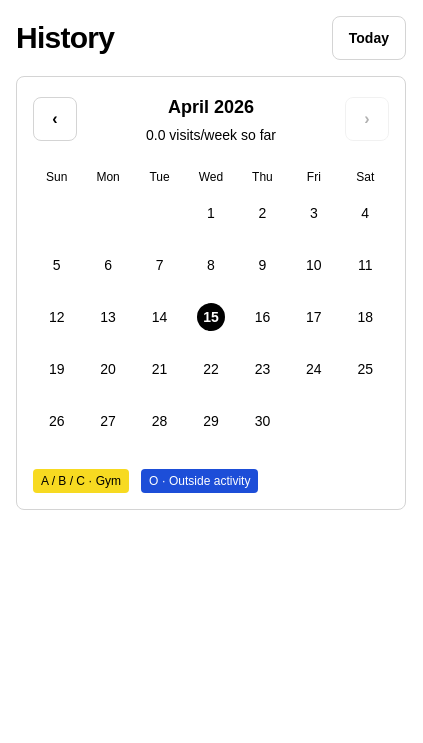
it: HistoryPage › uses the full length of a past month
Click the button named "Previous month" at (55, 119), box [33,97,77,141]
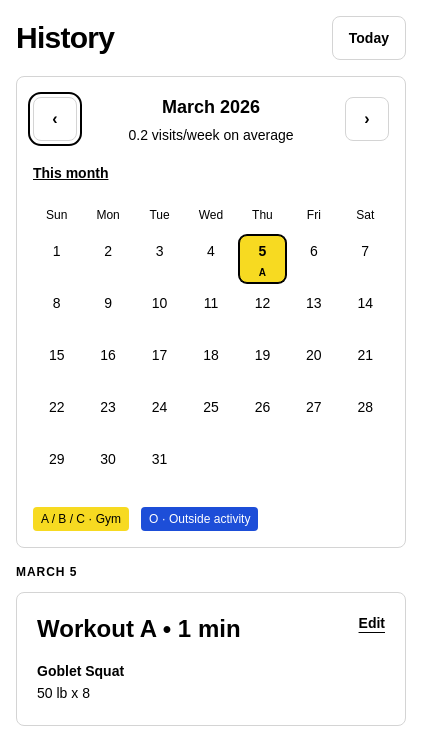
Result: the text "0.2 visits/week on average" is shown at [128,125,294,145]
